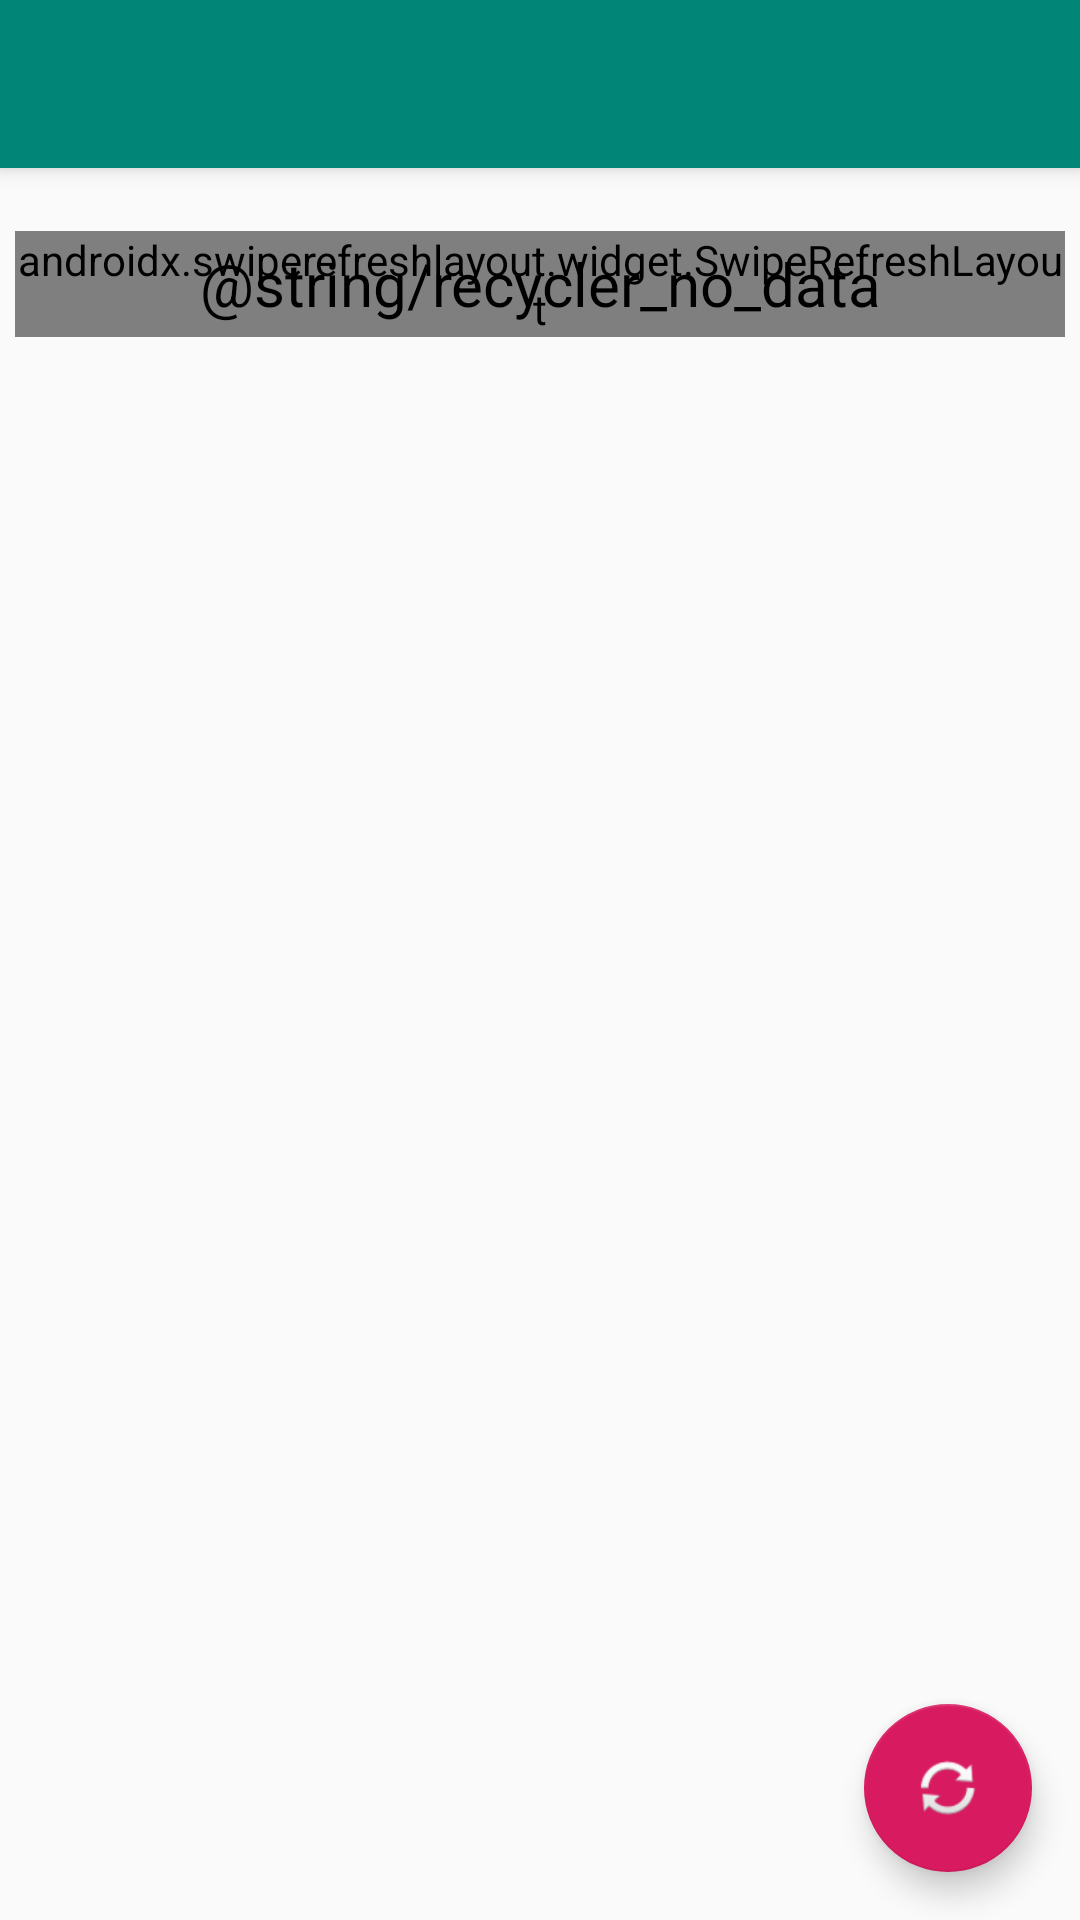

Named icons in this screenshot (1080px×1920px) and their bounding boxes, (x1, y1, x2, y2):
popup sync: (864, 1704, 1032, 1872)
